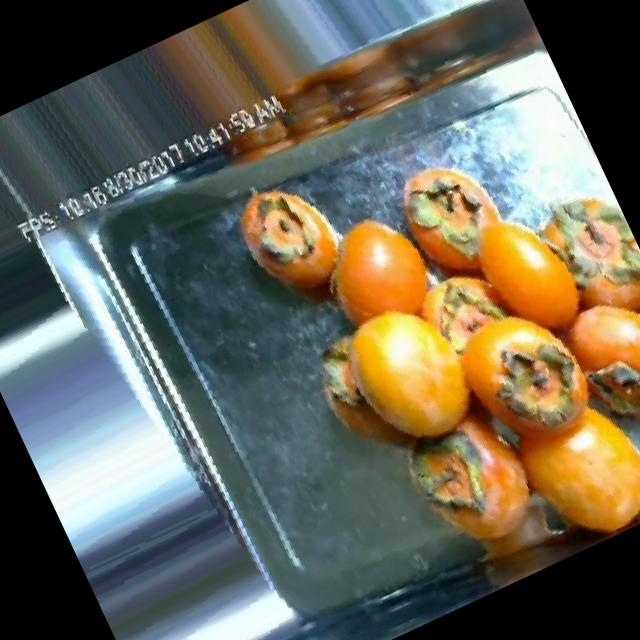Fruit: (294, 192, 458, 362), (494, 378, 640, 564), (214, 162, 370, 334)
